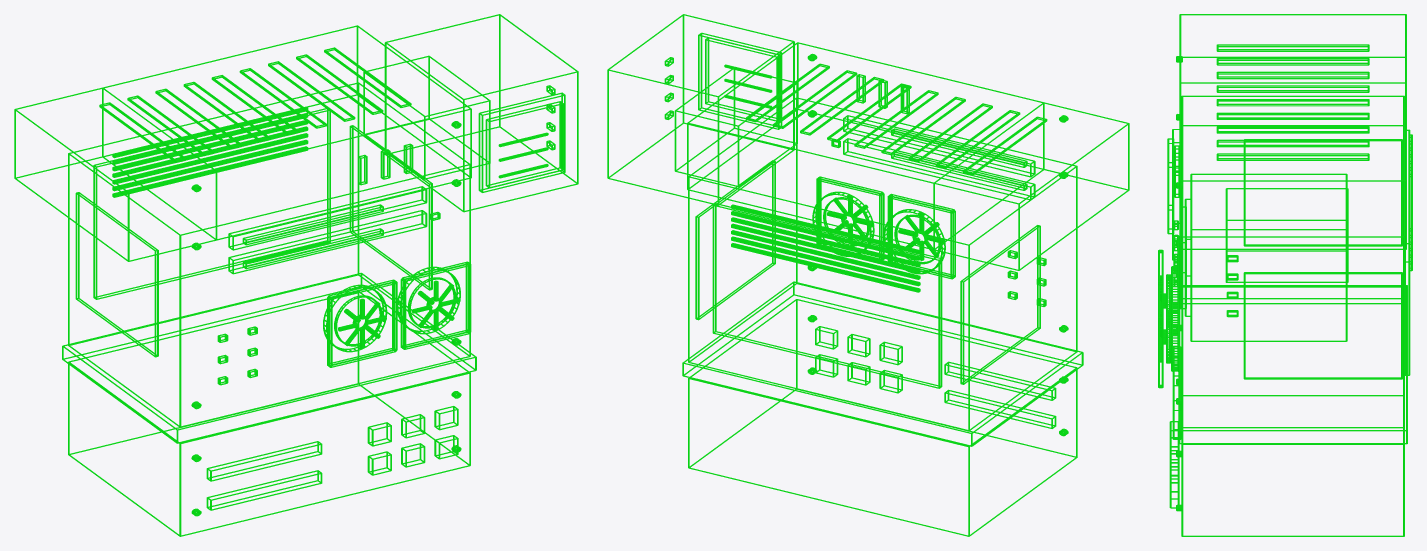
File: asteroid-tracker-wireframe.glb
3 views of the same model, side by side, from view 1: azimuth 30°, elevation 25°; view 2: azimuth 150°, elevation 25°; view 3: azimuth 270°, elevation 25° (orthographic). The views are drawn at different scales.
Visible parts, largest first — view 1: chassis technical wire, user-interface technical wire, cooling-fans technical wire, data-storage technical wire; view 2: chassis technical wire, user-interface technical wire, cooling-fans technical wire, data-storage technical wire; view 3: chassis technical wire, user-interface technical wire, cooling-fans technical wire, data-storage technical wire.
Boxes of the visible parts, x1,y1,x2,y2 form: chassis technical wire: [62, 25, 476, 536]; user-interface technical wire: [363, 14, 578, 212]; cooling-fans technical wire: [323, 261, 471, 367]; data-storage technical wire: [14, 87, 216, 261]; chassis technical wire: [682, 42, 1083, 536]; user-interface technical wire: [607, 14, 797, 205]; cooling-fans technical wire: [812, 176, 955, 279]; data-storage technical wire: [934, 102, 1129, 270]; chassis technical wire: [1167, 44, 1412, 536]; user-interface technical wire: [1177, 173, 1348, 341]; cooling-fans technical wire: [1158, 249, 1179, 388]; data-storage technical wire: [1179, 14, 1406, 125].
Bounding box in the file's own units: 2.6 × 1.98 × 1.26.
